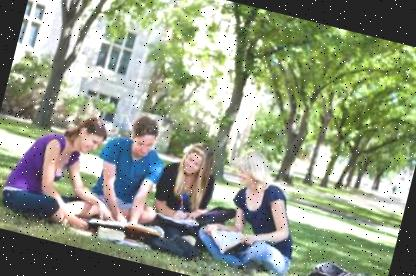bag: (300, 252, 389, 276)
person: (194, 139, 319, 276), (0, 92, 112, 238), (78, 104, 177, 247), (137, 130, 229, 266)
